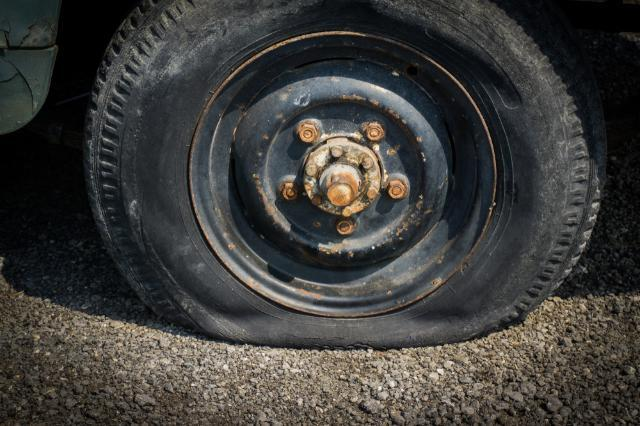tire flat: (85, 0, 610, 351)
